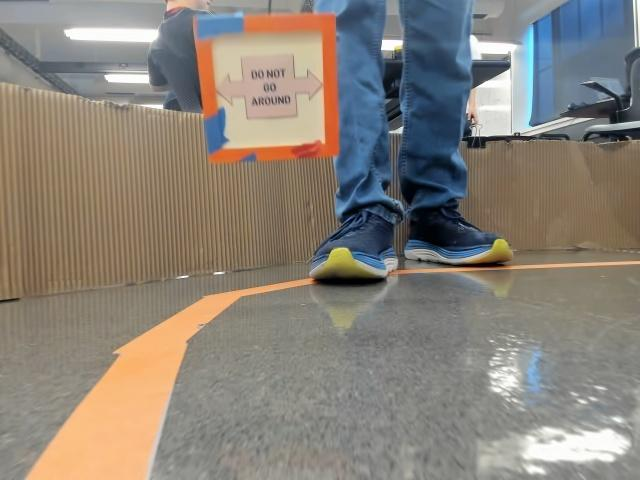Do Not Go Around: (212, 59, 316, 121)
